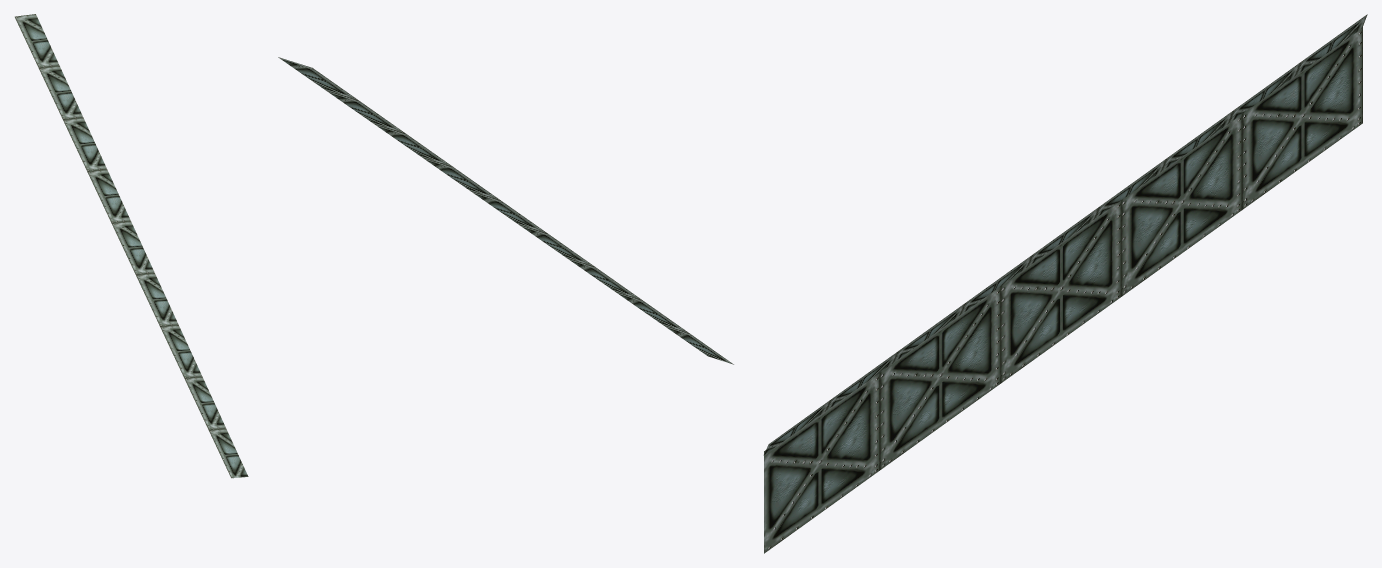
File: TTreppeGeländer [Eisen]_581.glb
3 renders of one model, left to right at view 1: azimuth 30°, elevation 25°; view 2: azimuth 150°, elevation 25°; view 3: azimuth 270°, elevation 25°, orthographic. The views are drawn at different scales.
Visible parts, largest first — view 1: pPlaneShape6; view 2: pPlaneShape6; view 3: pPlaneShape1, pPlaneShape6.
Boxes of the visible parts, left/top/right/bottom form: pPlaneShape6: left=15, top=14, right=248, bottom=478; pPlaneShape6: left=278, top=57, right=733, bottom=364; pPlaneShape1: left=764, top=27, right=1362, bottom=553; pPlaneShape6: left=763, top=14, right=1367, bottom=455.
Size of the model in its own units: 0.0264 by 0.493 by 0.5055.
Materials: 2 (2 with a texture image).
